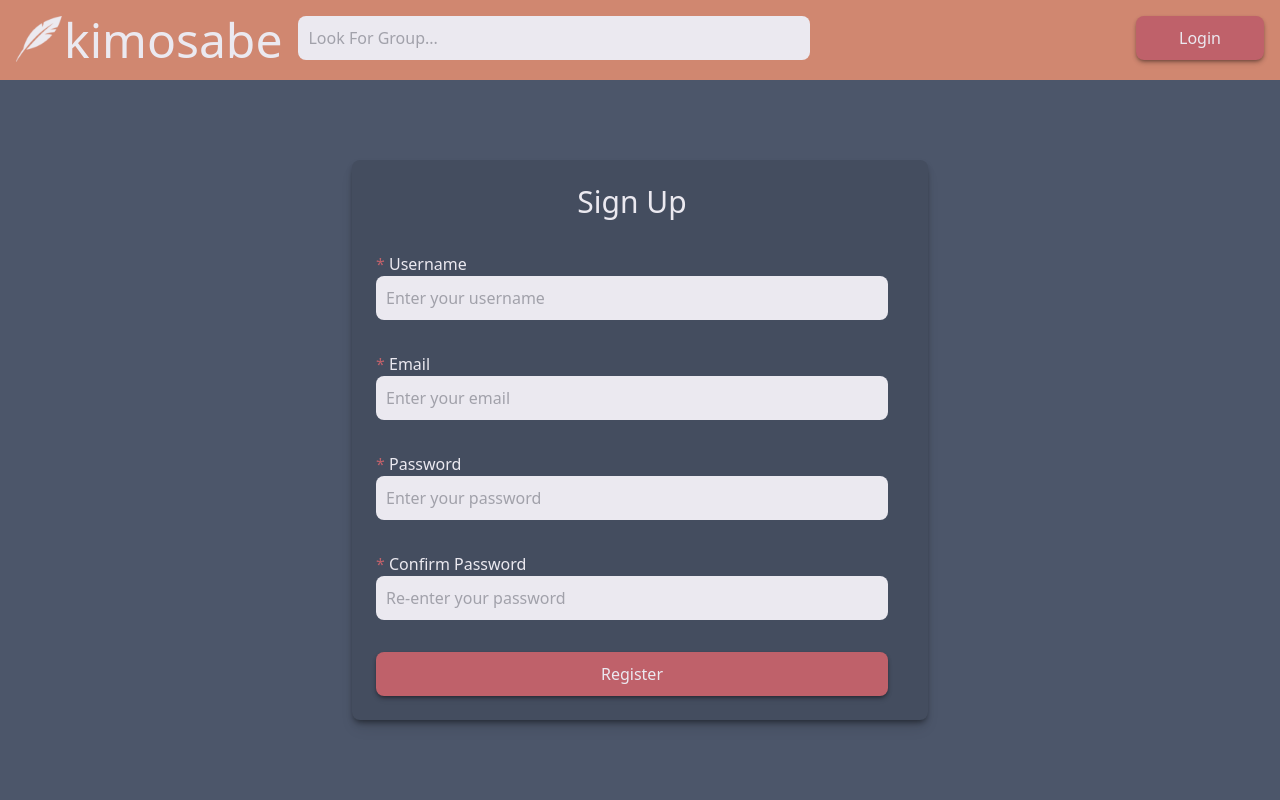
it: pages/register.js › when register button is clicked › password and confirm password fields do not match › error should be displayed
The width and height of the screenshot is (1280, 800).
Type "pass" into the password field with test id "rp-password" at (632, 498), box [376,476,888,520]
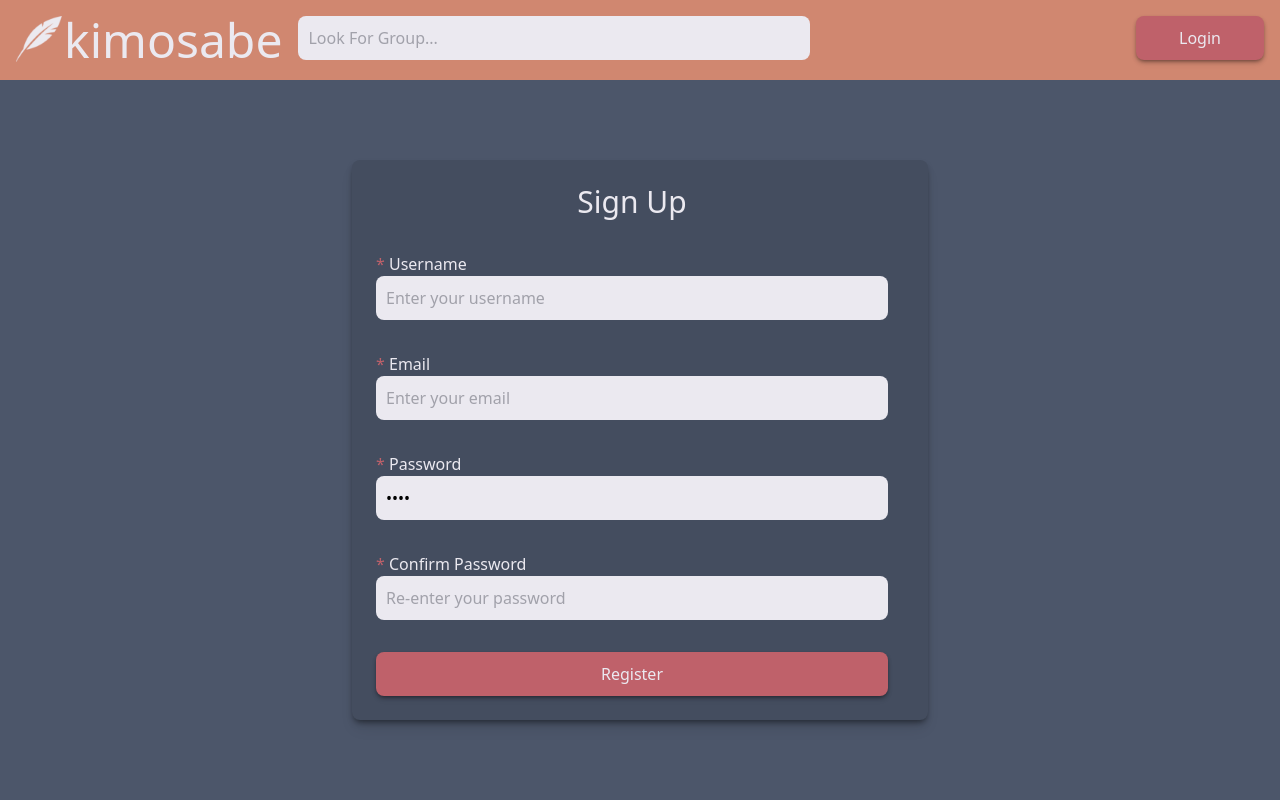
Click the button with test id "rp-register-button" at (632, 674), box [376,652,888,696]
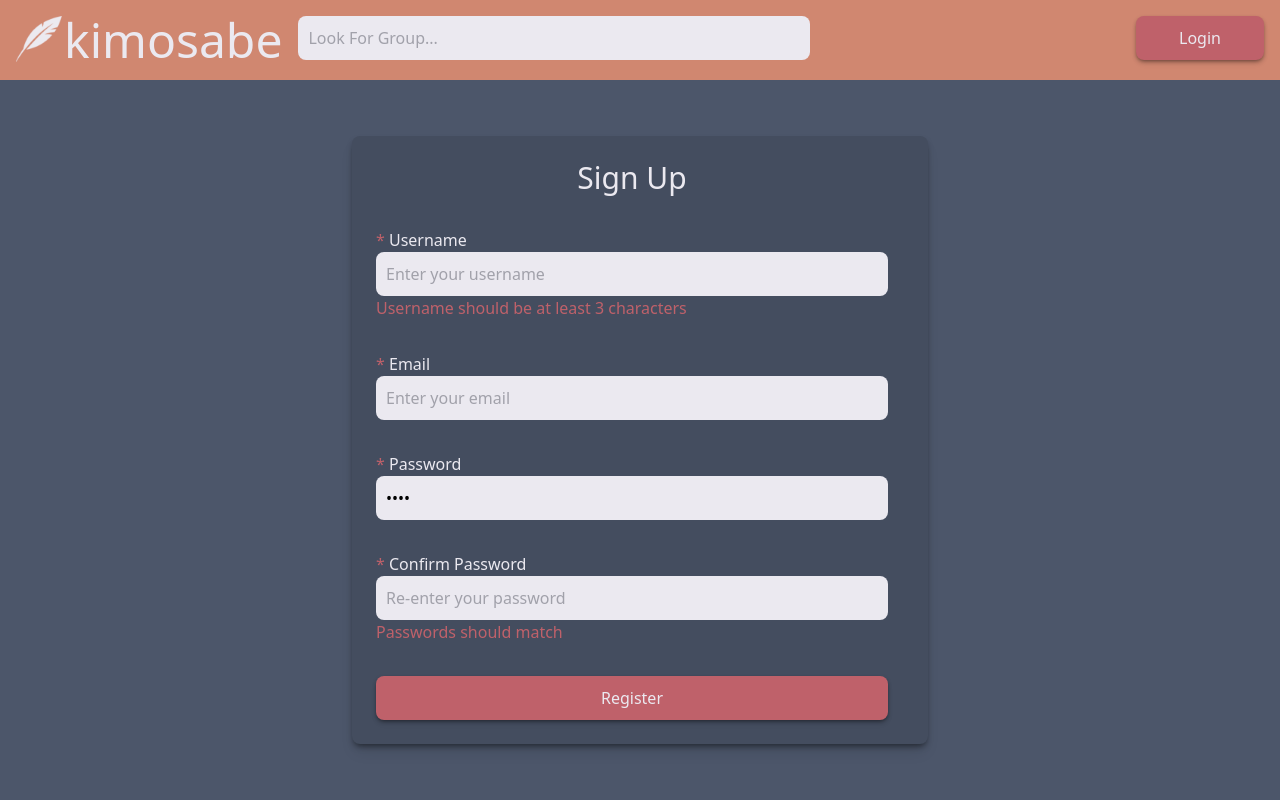
Expected: the text with test id "rp-cpassword-error" reads "Passwords should match", [376,621,563,643]
